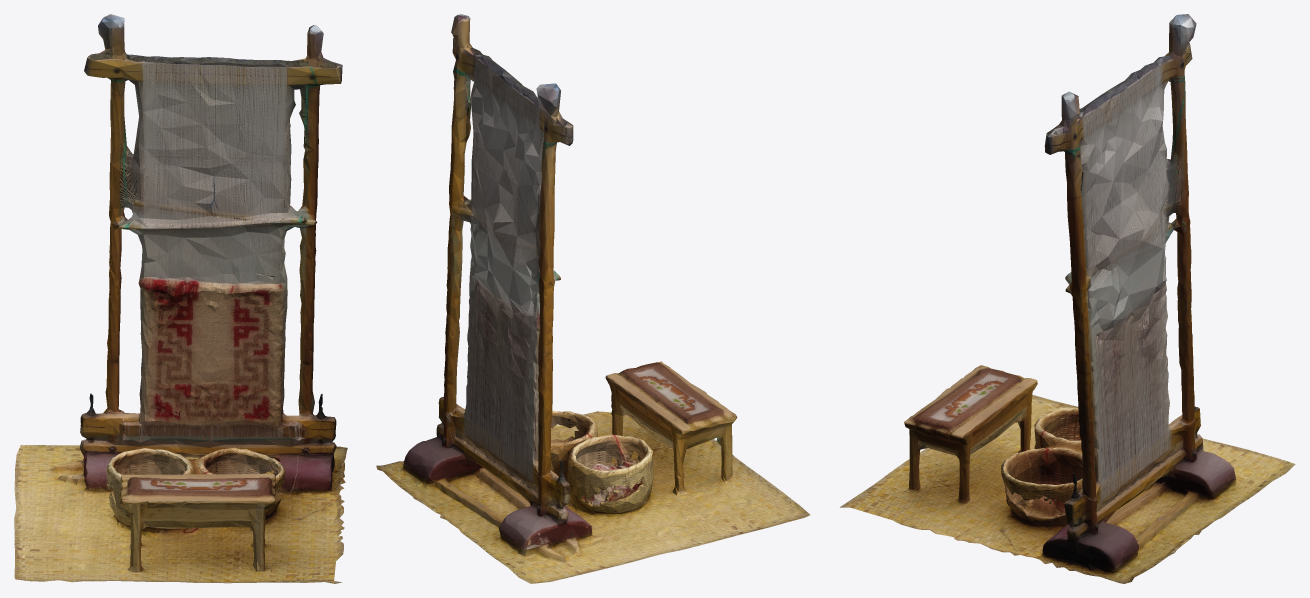
The model's file is 7-telarFinal.glb.
3 renders of one model, left to right at view 1: azimuth 30°, elevation 25°; view 2: azimuth 150°, elevation 25°; view 3: azimuth 270°, elevation 25°, orthographic. The views are drawn at different scales.
Parts seen in each view (by area): view 1: Mesh_1.005, Mesh_2.005; view 2: Mesh_1.005, Mesh_2.005; view 3: Mesh_1.005, Mesh_2.005.
Boxes of the visible parts, x1=… form: Mesh_1.005: x1=14, y1=24, x2=346, y2=583; Mesh_2.005: x1=57, y1=14, x2=347, y2=572; Mesh_1.005: x1=377, y1=14, x2=810, y2=581; Mesh_2.005: x1=376, y1=17, x2=737, y2=563; Mesh_1.005: x1=840, y1=23, x2=1283, y2=582; Mesh_2.005: x1=904, y1=14, x2=1236, y2=583.
Size of the model in its own units: 23.49 by 26.8 by 23.65.
3 materials, 3 textured.
